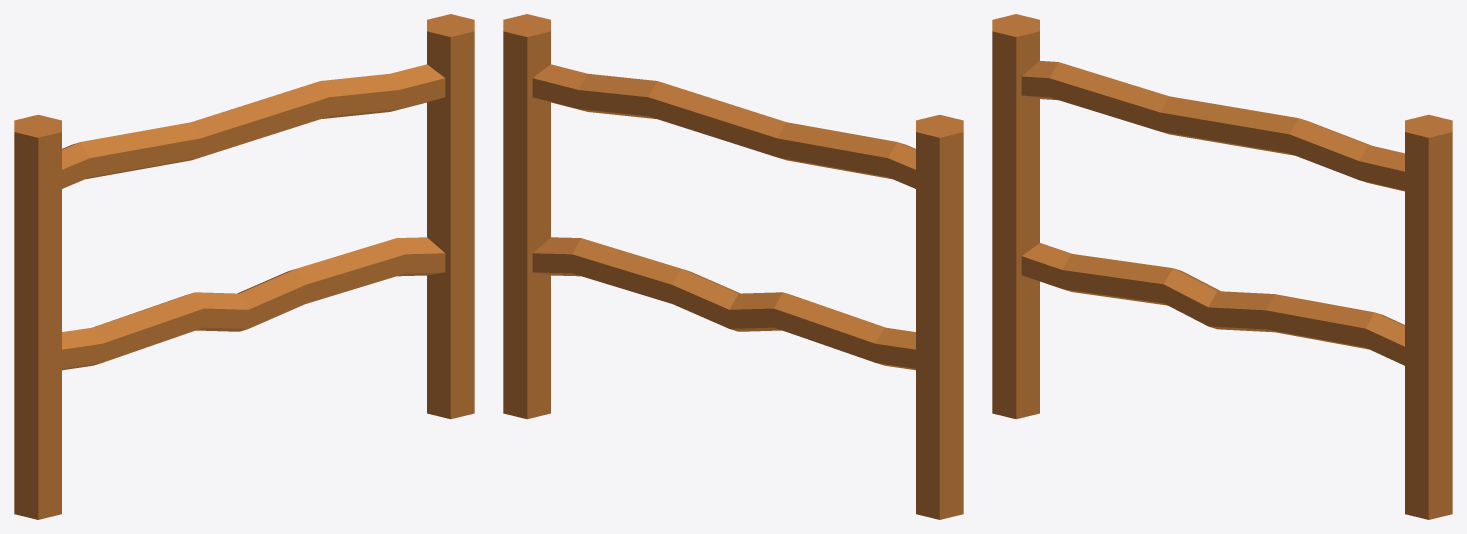
Rendered from barriere.fbx.
The picture shows the model from 3 angles, left to right: view 1: azimuth 30°, elevation 25°; view 2: azimuth 150°, elevation 25°; view 3: azimuth 330°, elevation 25°; orthographic projection.
Parts seen in each view (by area): view 1: barriere; view 2: barriere; view 3: barriere.
Boxes of the visible parts, <box> form: barriere: <box>14,14,474,519</box>; barriere: <box>503,14,963,519</box>; barriere: <box>992,14,1452,519</box>.
Size of the model in its own units: 126 by 100 by 11.26.
